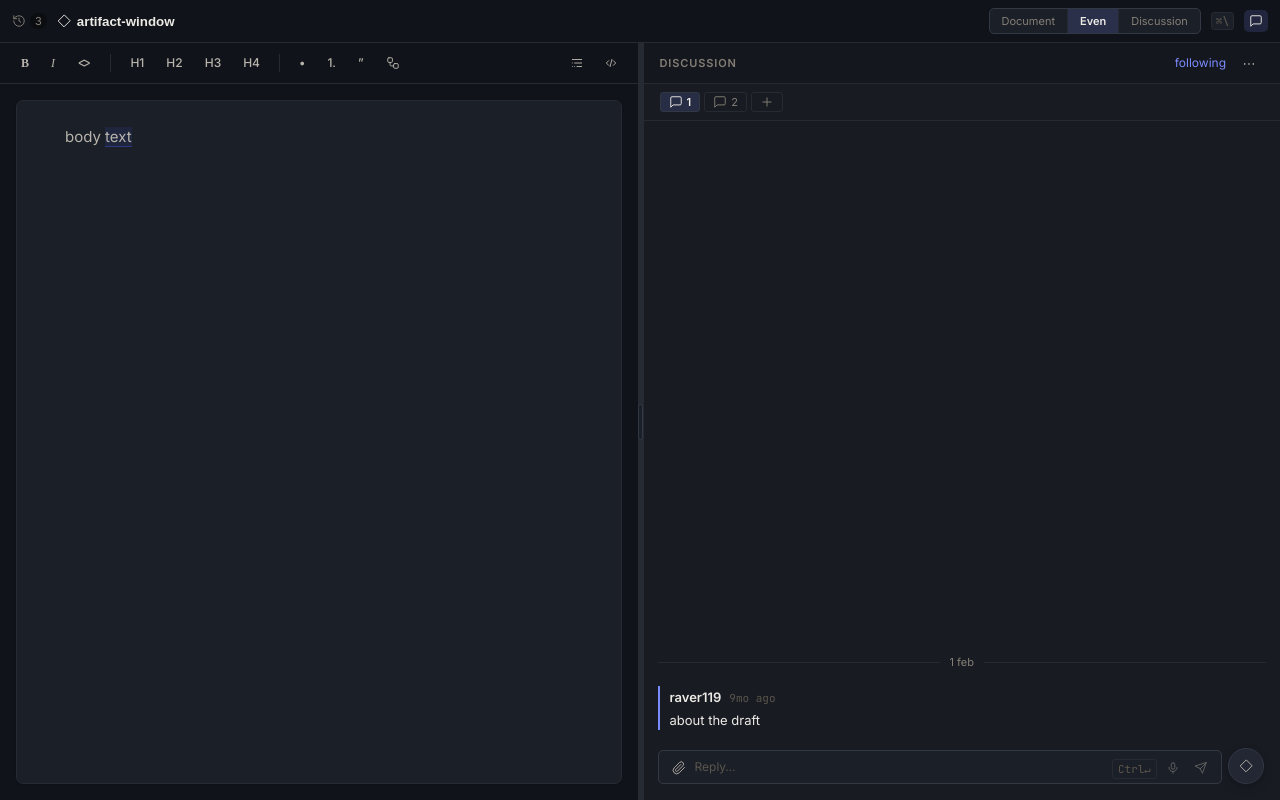
Test: the passages of open fragment discussions (DDS-FR-QMBC, DDS-FR-NWRL) › DDS-FR-QMBC, CVP-FR-06: activating a mark focuses its discussion in the column
The width and height of the screenshot is (1280, 800).
Check: the element with test id "comment-thread-disc-1" is shown, box [644,121,1279,799]
Click the text box labelled "text".
click(118, 137)  # box [105,127,132,147]
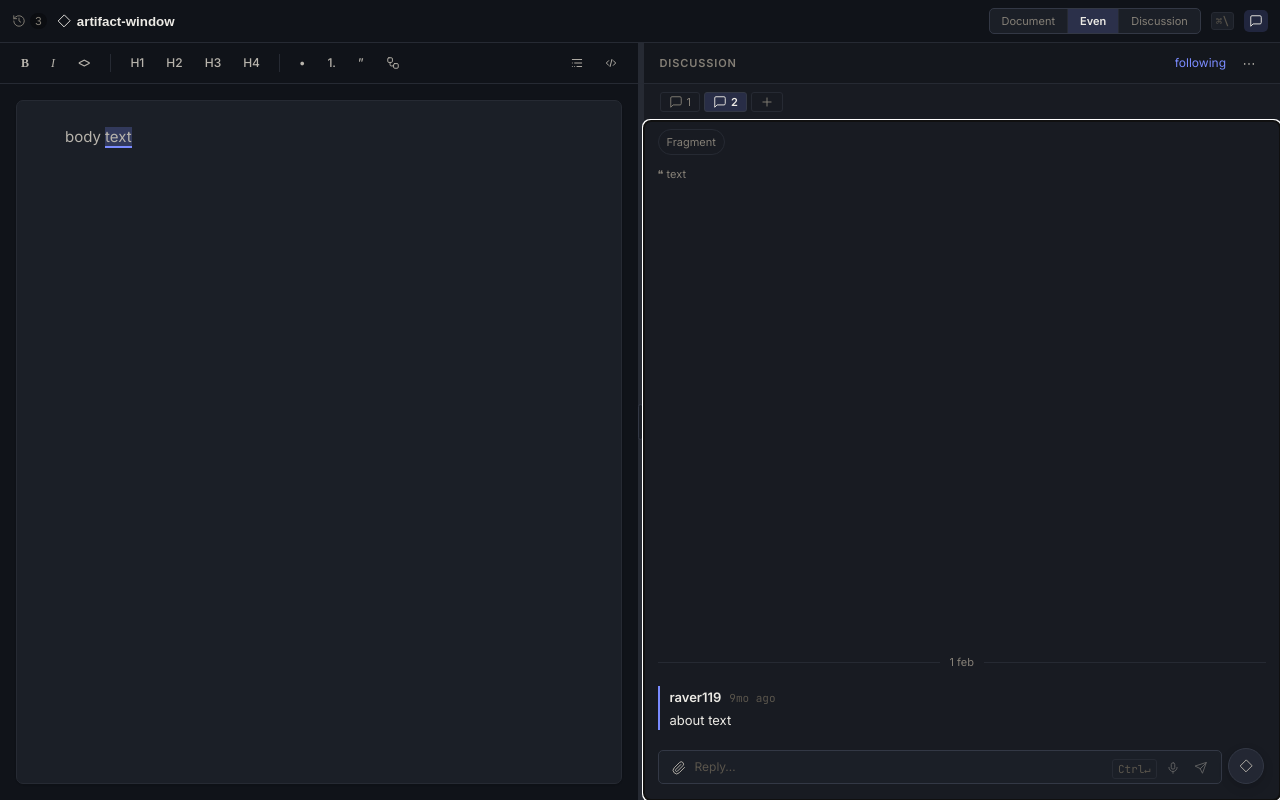
Check: the number of elements with test id "comment-thread-disc-2" is 1, box [644,121,1279,799]
Check: the button with test id "discussion-fragment-quote" shows "text", box [658,167,1266,182]
